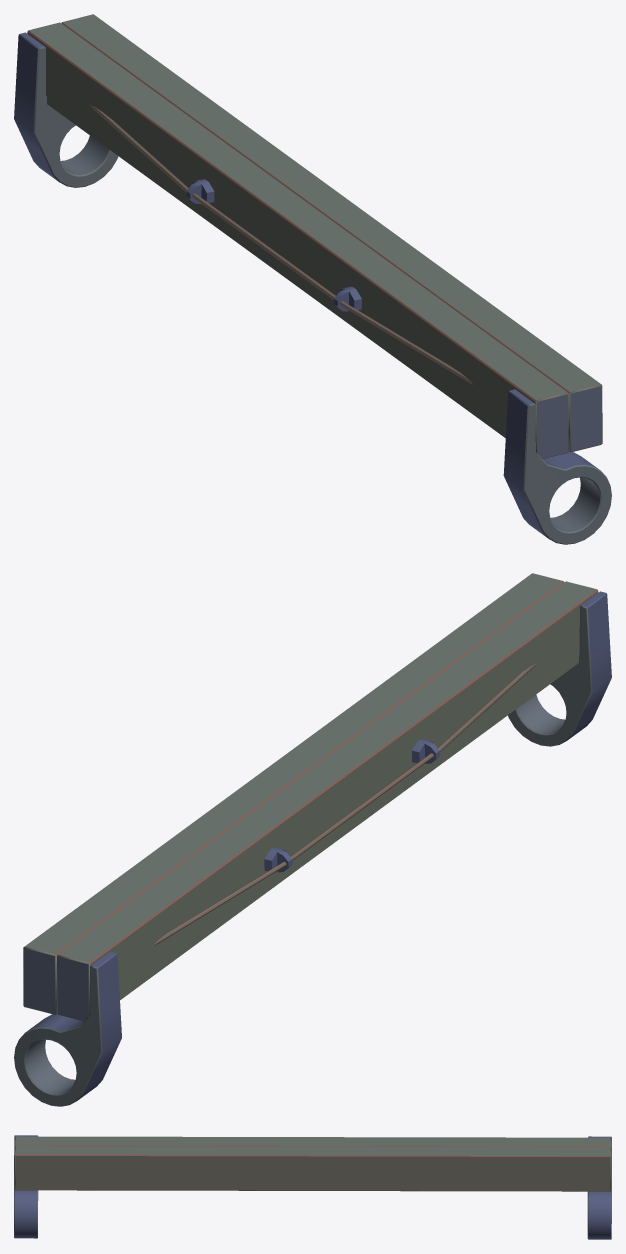
File: Spindle_02.fbx
3 renders of one model, top to bottom at view 1: azimuth 30°, elevation 25°; view 2: azimuth 150°, elevation 25°; view 3: azimuth 270°, elevation 25°, orthographic. The views are drawn at different scales.
Parts seen in each view (by area): view 1: Pincher_02, Soindle_02; view 2: Pincher_02, Soindle_02; view 3: Pincher_02.
Boxes of the visible parts, bbox=[...] form: Pincher_02: bbox=[14, 14, 611, 544]; Soindle_02: bbox=[90, 105, 473, 384]; Pincher_02: bbox=[14, 573, 611, 1106]; Soindle_02: bbox=[153, 663, 536, 945]; Pincher_02: bbox=[14, 1135, 611, 1239].
Bounding box in the file's own units: 18.81 × 28.96 × 174.
